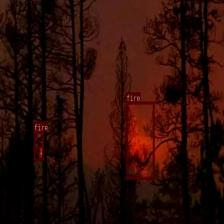fire: (126, 101, 154, 179), (34, 131, 44, 160)
